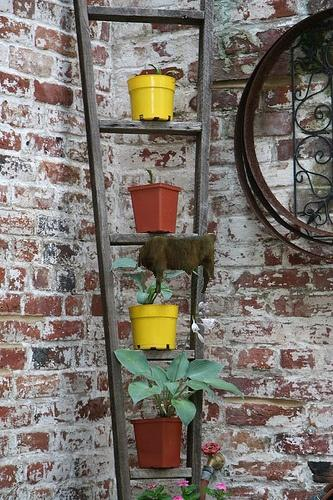tampered: (135, 234, 214, 293)
